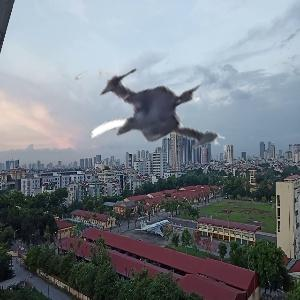drone: (65, 35, 229, 199)
